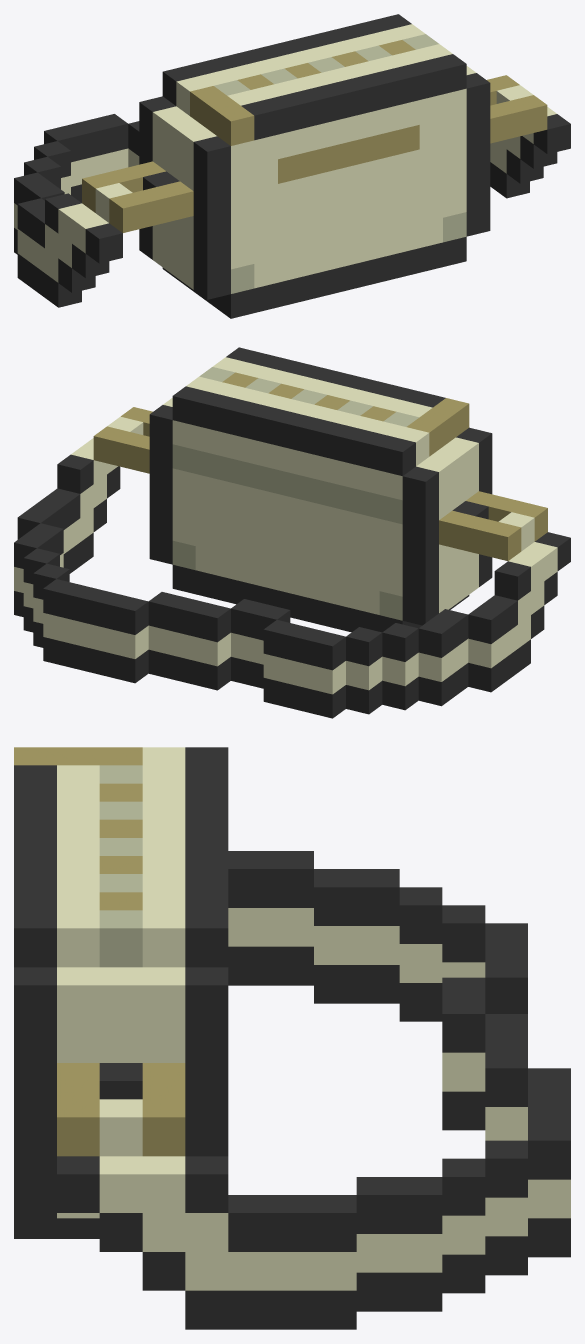
The model's file is camera-bag.glb.
The picture shows the model from 3 angles, top to bottom: view 1: azimuth 30°, elevation 25°; view 2: azimuth 150°, elevation 25°; view 3: azimuth 270°, elevation 25°; orthographic projection. The views are drawn at different scales.
Parts seen in each view (by area): view 1: camera-bag.vox; view 2: camera-bag.vox; view 3: camera-bag.vox.
Part boxes in pixels (<box>): camera-bag.vox: <box>14,14,570,318</box>; camera-bag.vox: <box>14,347,570,718</box>; camera-bag.vox: <box>14,747,570,1329</box>.
Bounding box in the file's own units: 2 × 0.8 × 1.3.
1 material, 1 textured.
